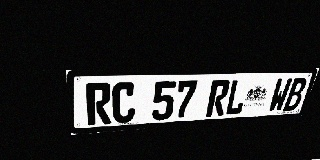5: (152, 81, 176, 121)
7: (173, 80, 198, 119)
B: (283, 78, 308, 111)
C: (112, 82, 136, 124)
L: (224, 79, 250, 115)
R: (86, 83, 111, 125), (206, 80, 231, 117)
W: (267, 78, 293, 112)
